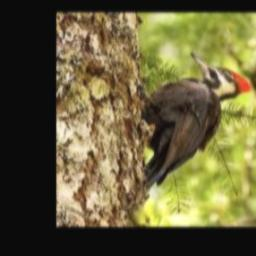Woodpecker: (141, 52, 252, 189)
